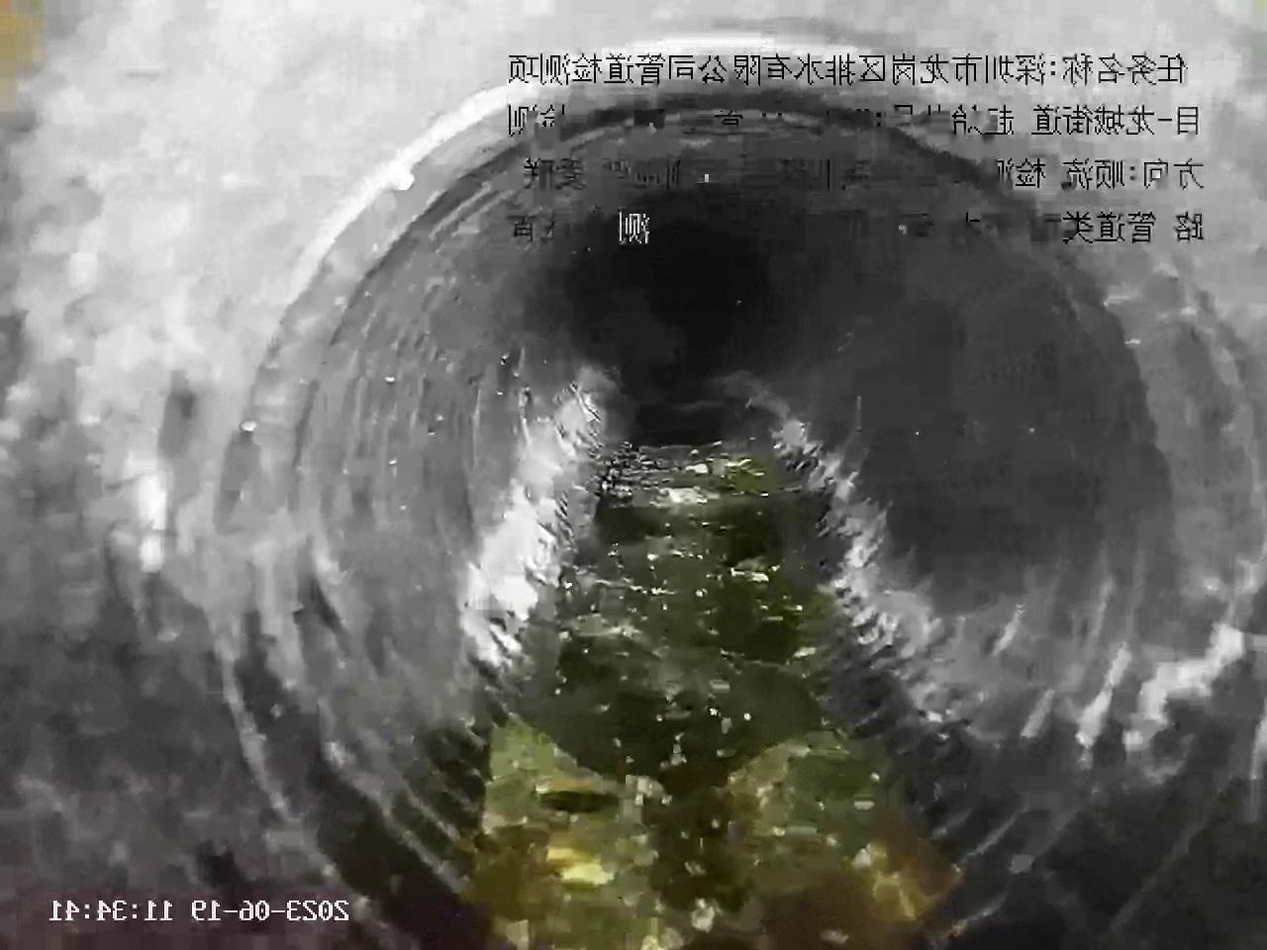CJ: (469, 445, 948, 949)
